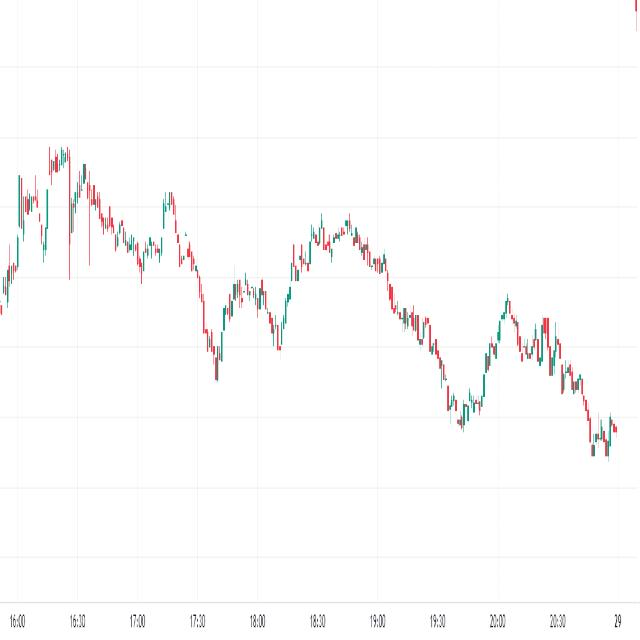Rounding-Top: (281, 198, 402, 317), (214, 262, 278, 333)
